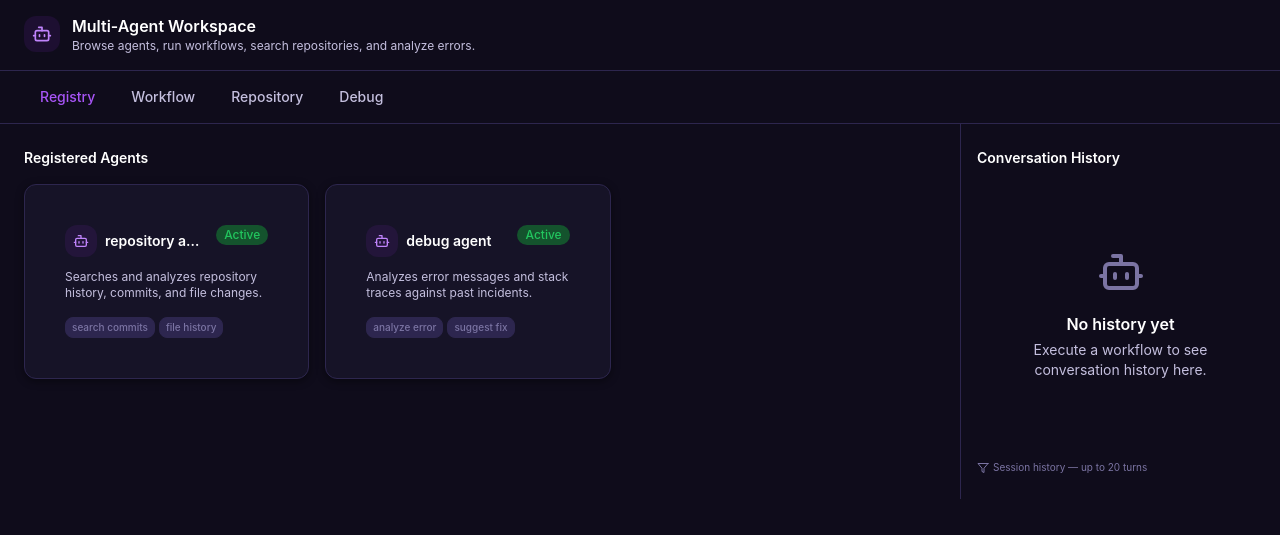
Scenario: AgentsPage › switches to debug tab on click
Click the tab "Debug" at (361, 97), box [323, 79, 399, 115]
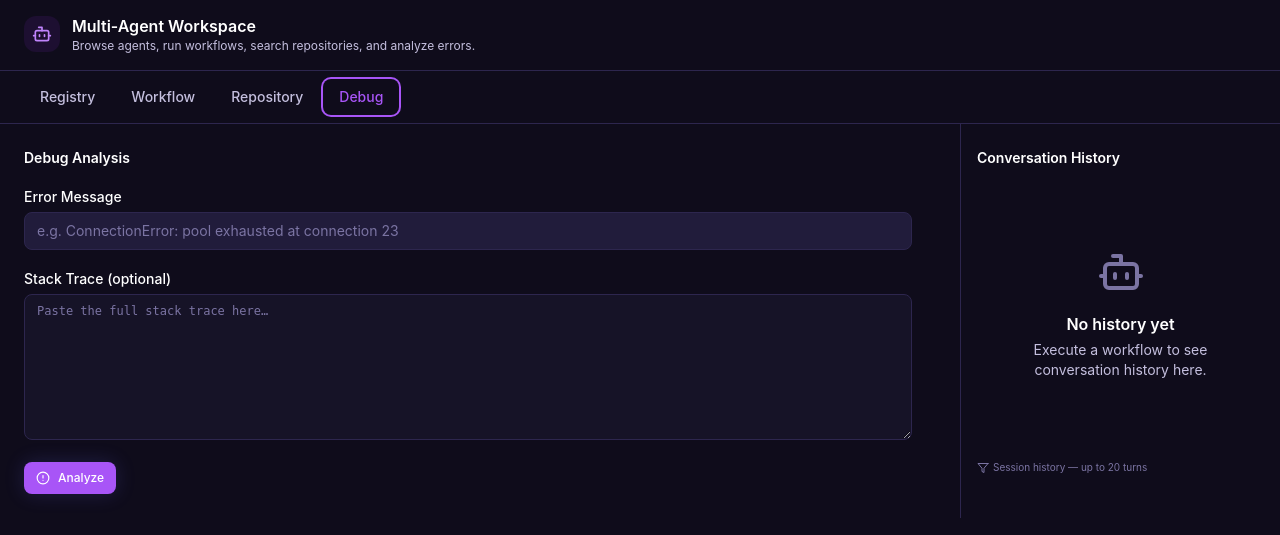
Now the element with test id "debug-agent-panel" is shown, box [24, 184, 912, 494]
